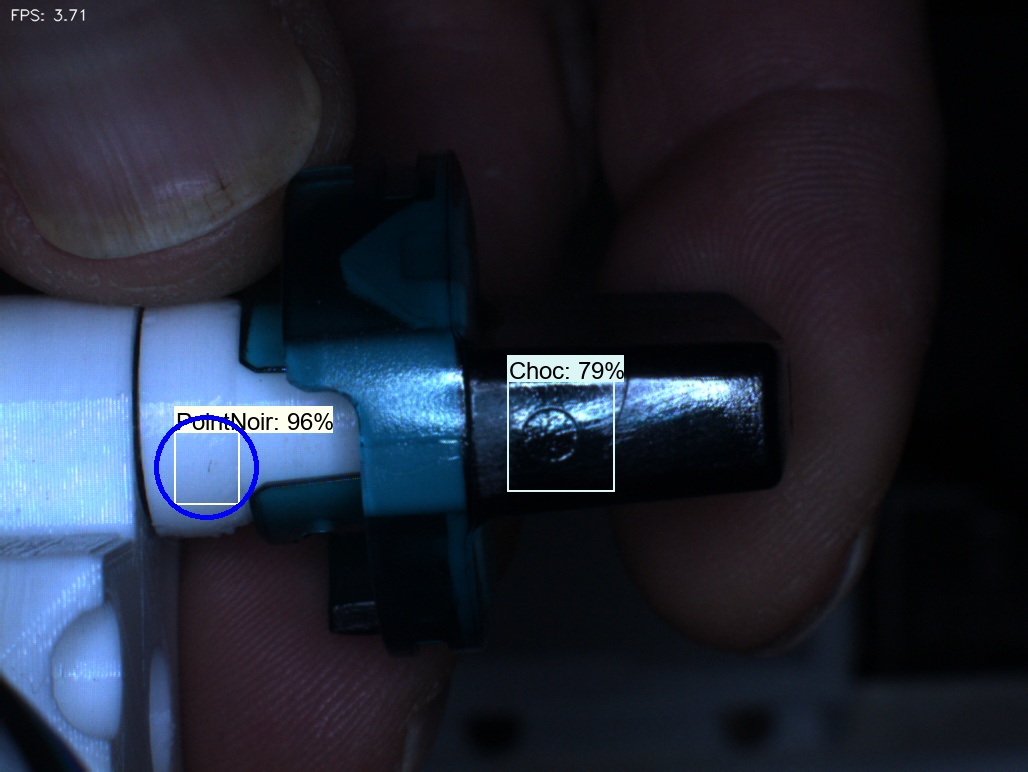DentOk: (310, 222, 383, 300)
